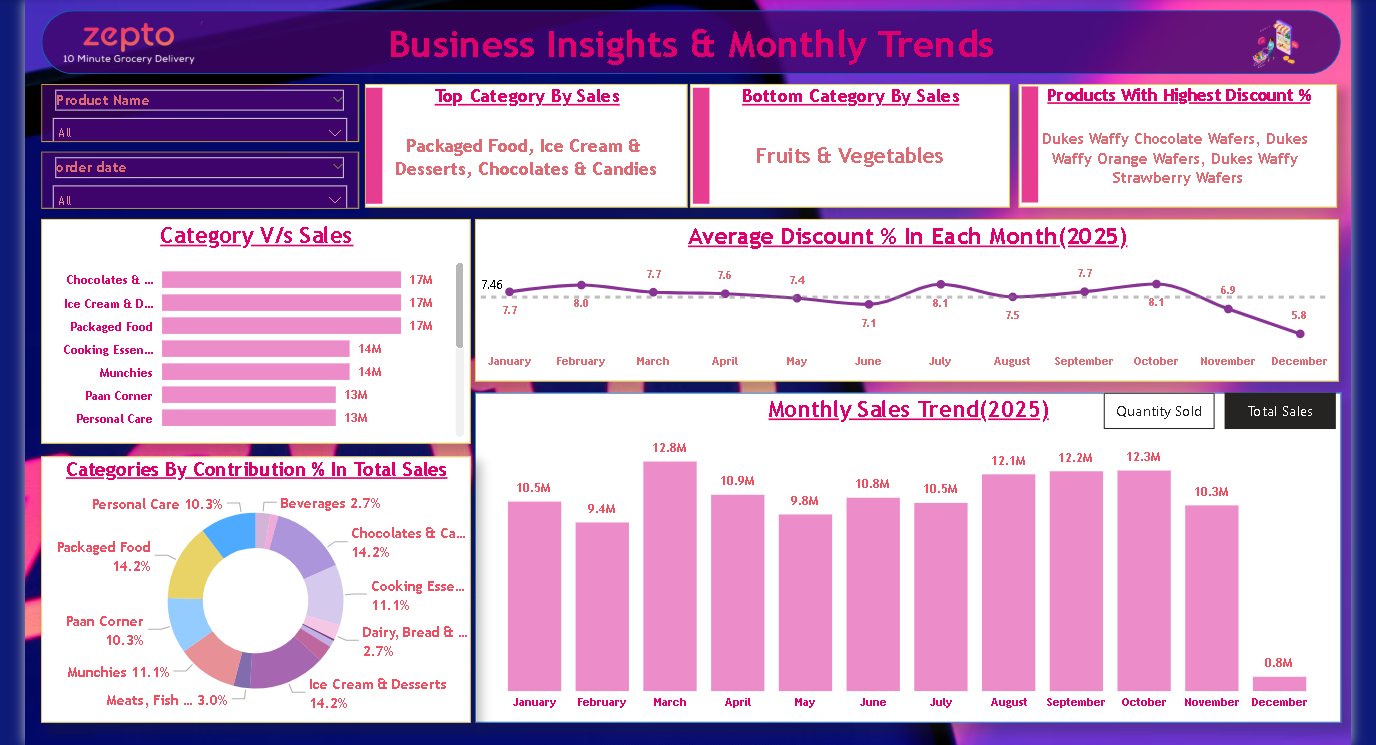

The dashboard page shown, as its layout file describes it:
{"tool":"powerbi","page":{"name":"Business Insights & Monthly Trends","canvas":[1280,720],"ordinal":2},"visuals":[{"type":"shape","box":[15.1,11,1254.2,61.7],"z":0},{"type":"card","title":"Top Category By Sales","fields":{"Values":["Measures Table.Top Category By Sales"]},"box":[328,82.3,311.5,119.4],"z":1000},{"type":"card","title":"Bottom Category By Sales","fields":{"Values":["Measures Table.Bottom Category By Sales"]},"box":[642.2,82.3,308.7,119.4],"z":2000},{"type":"card","title":"Products With Highest Discount %","fields":{"Values":["Measures Table.Highest Discount % Product"]},"box":[959.2,82.3,307.4,119.4],"z":3000},{"type":"barChart","title":"Category V/s Sales","fields":{"Category":["zepto dataset.Category"],"Y":["Measures Table.Total Sales value"]},"box":[15.1,212.7,414.4,216.8],"z":4000},{"type":"lineChart","title":"Average Discount % In Each Month(2025)","fields":{"Category":["zepto dataset.order date.Variation.Date Hierarchy.Month"],"Y":["Measures Table.avg"]},"box":[434.3,212.3,833.7,156.8],"z":5000},{"type":"columnChart","title":"Monthly Sales Trend(2025)","fields":{"Y":["Sum(zepto dataset.Total Sales)"],"Category":["zepto dataset.order date.Variation.Date Hierarchy.Month"]},"box":[434.4,379.7,835.6,318.3],"z":6000},{"type":"image","box":[24.7,15.1,152.3,57.6],"z":8000},{"type":"image","box":[1138.2,14.1,141.3,57.8],"z":9000},{"type":"donutChart","title":"Categories By Contribution % In Total Sales","fields":{"Y":["Measures Table.contribution %"],"Category":["zepto dataset.Category"]},"box":[15.1,441.9,414.4,256.6],"z":10000},{"type":"image","box":[950.6,79.6,38.5,122],"z":11000},{"type":"slicer","fields":{"Values":["zepto dataset.name"]},"box":[15.1,82.3,306,56.3],"z":12000},{"type":"slicer","fields":{"Values":["zepto dataset.order date"]},"box":[15.1,146.8,306,54.9],"z":13000},{"type":"bookmarkNavigator","box":[1041.5,380.1,225,35.7],"z":14000},{"type":"image","box":[638.5,80.9,28.3,122],"z":15000},{"type":"image","box":[321.2,80.9,32.1,122],"z":16000}]}

Visuals, with their boxes in screenshot pixels (x1, y1, x2, y2):
shape: l=44, t=15, r=1324, b=78
"Top Category By Sales" card: l=364, t=88, r=682, b=209
"Bottom Category By Sales" card: l=684, t=88, r=999, b=209
"Products With Highest Discount %" card: l=1008, t=88, r=1322, b=209
"Category V/s Sales" barChart: l=44, t=221, r=467, b=442
"Average Discount % In Each Month(2025)" lineChart: l=472, t=220, r=1323, b=380
"Monthly Sales Trend(2025)" columnChart: l=472, t=391, r=1325, b=716
image: l=54, t=19, r=209, b=78
image: l=1191, t=18, r=1335, b=77
"Categories By Contribution % In Total Sales" donutChart: l=44, t=455, r=467, b=717
image: l=999, t=85, r=1038, b=209
slicer - zepto dataset.name: l=44, t=88, r=356, b=145
slicer - zepto dataset.order date: l=44, t=153, r=356, b=209
bookmarkNavigator: l=1092, t=392, r=1322, b=428
image: l=680, t=86, r=709, b=211
image: l=357, t=86, r=389, b=211
